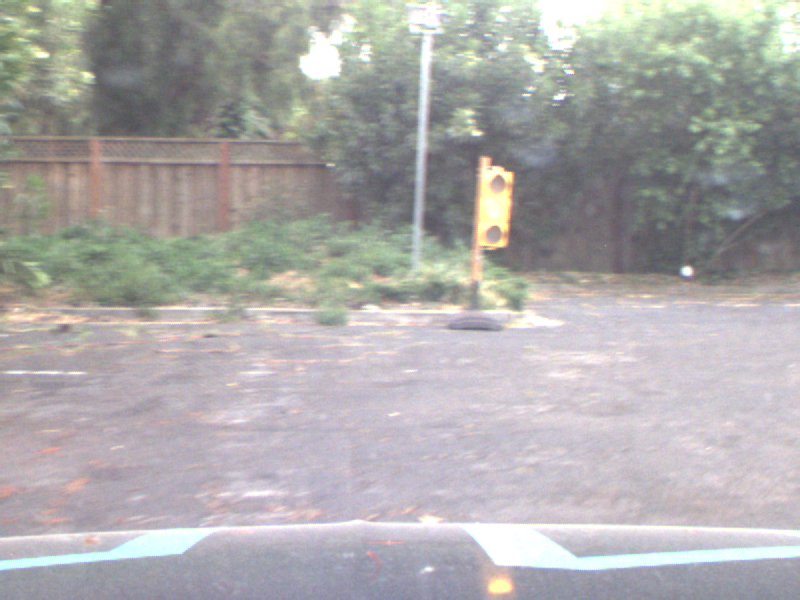Yellow: (479, 165, 508, 249)
